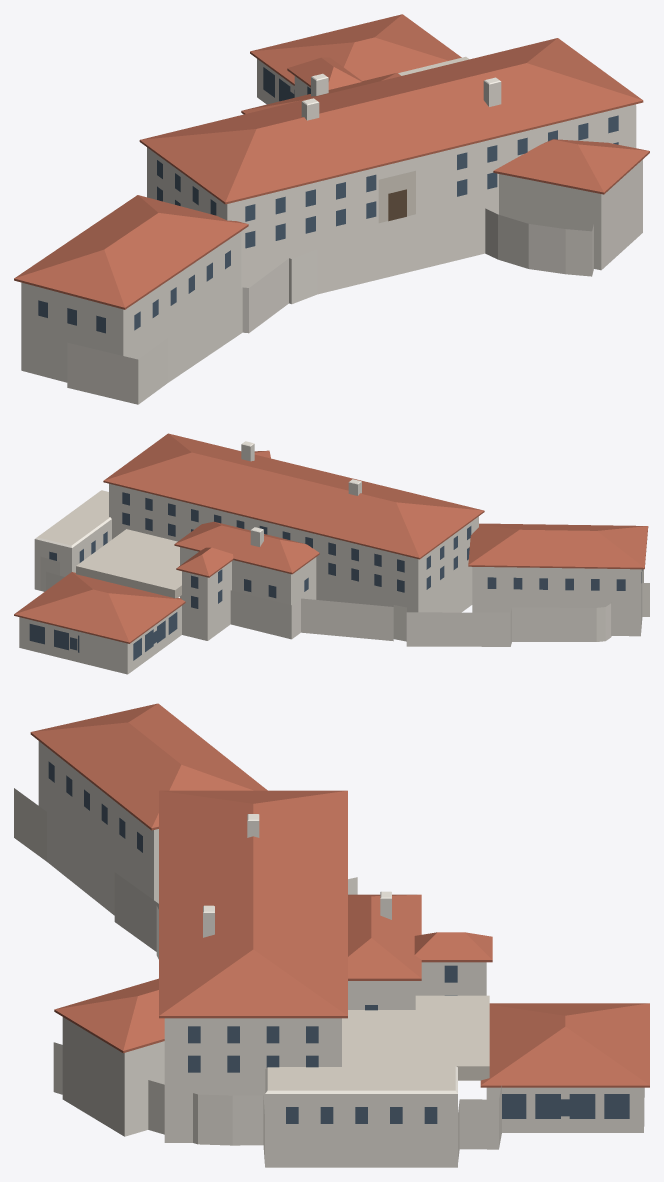
The model's file is phx-wrigley-mansion.glb.
The picture shows the model from 3 angles, top to bottom: view 1: azimuth 30°, elevation 25°; view 2: azimuth 150°, elevation 25°; view 3: azimuth 270°, elevation 25°; orthographic projection. The views are drawn at different scales.
Parts seen in each view (by area): view 1: Wrigley Mansion; view 2: Wrigley Mansion; view 3: Wrigley Mansion.
Part boxes in pixels (left/top/right/bottom): Wrigley Mansion: left=14, top=14, right=649, bottom=404; Wrigley Mansion: left=14, top=433, right=649, bottom=674; Wrigley Mansion: left=14, top=703, right=649, bottom=1167.
Size of the model in its own units: 86.97 by 19.3 by 64.62.
